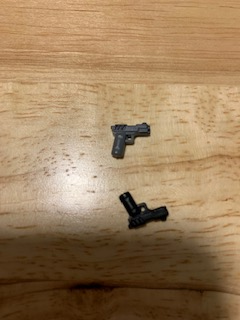pistol: (112, 185, 172, 233), (108, 121, 152, 161)
